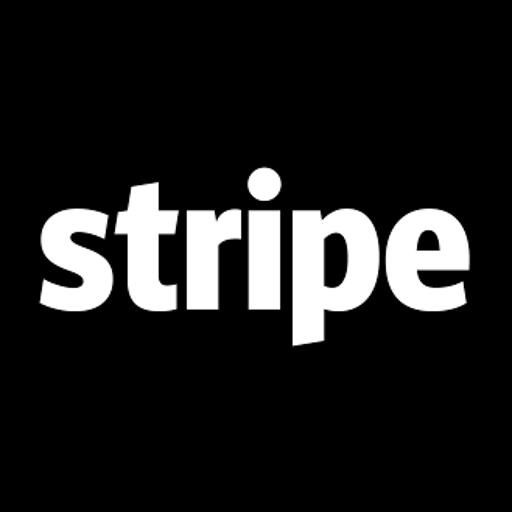Stripe: (0, 137, 512, 375)
